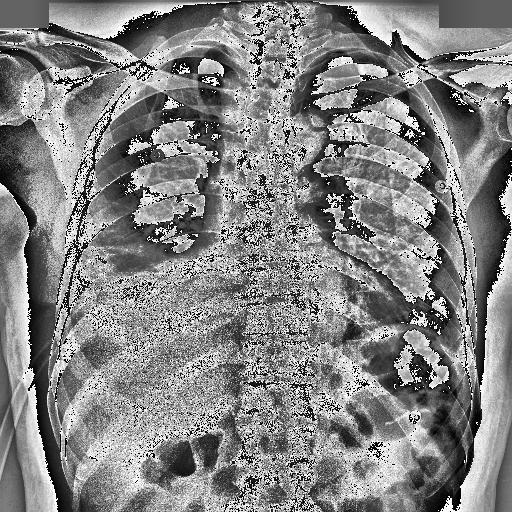0- Aortic enlargement: (268, 116, 328, 169), (273, 111, 329, 167)
10- Pleural effusion: (58, 236, 231, 337), (66, 226, 178, 318), (66, 244, 122, 320), (435, 328, 470, 372)
11- Pleural thickening: (435, 328, 470, 372)
13- Pulmonary fibrosis: (79, 192, 171, 290), (78, 218, 171, 270), (86, 239, 148, 267)
6- Infiltration: (79, 192, 171, 290), (78, 218, 171, 270)
7- Lung Opacity: (79, 192, 171, 290), (76, 214, 166, 282)
